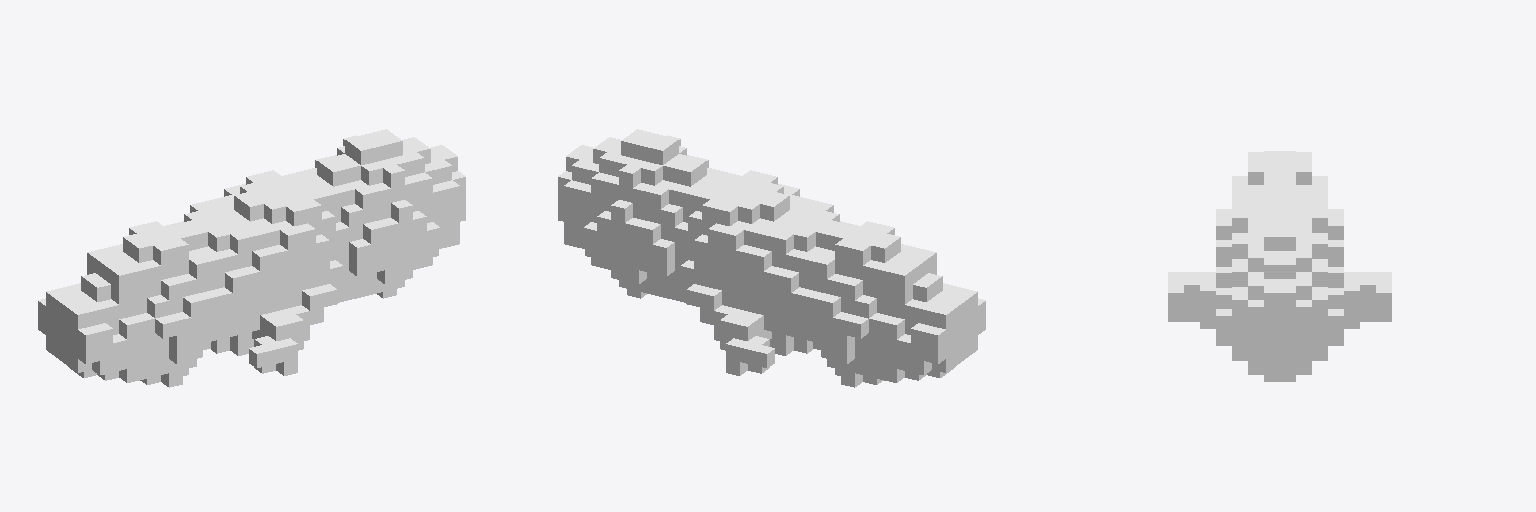
Rendered from S_WhaleBody.obj.
3 renders of one model, left to right at view 1: azimuth 30°, elevation 25°; view 2: azimuth 150°, elevation 25°; view 3: azimuth 270°, elevation 25°, orthographic.
Visible parts, largest first — view 1: object 1; view 2: object 1; view 3: object 1.
Boxes of the visible parts, <box> form: object 1: <box>38,129,465,387</box>; object 1: <box>558,129,985,387</box>; object 1: <box>1168,151,1391,381</box>.
Size of the model in its own units: 2.8 by 1.2 by 1.4.